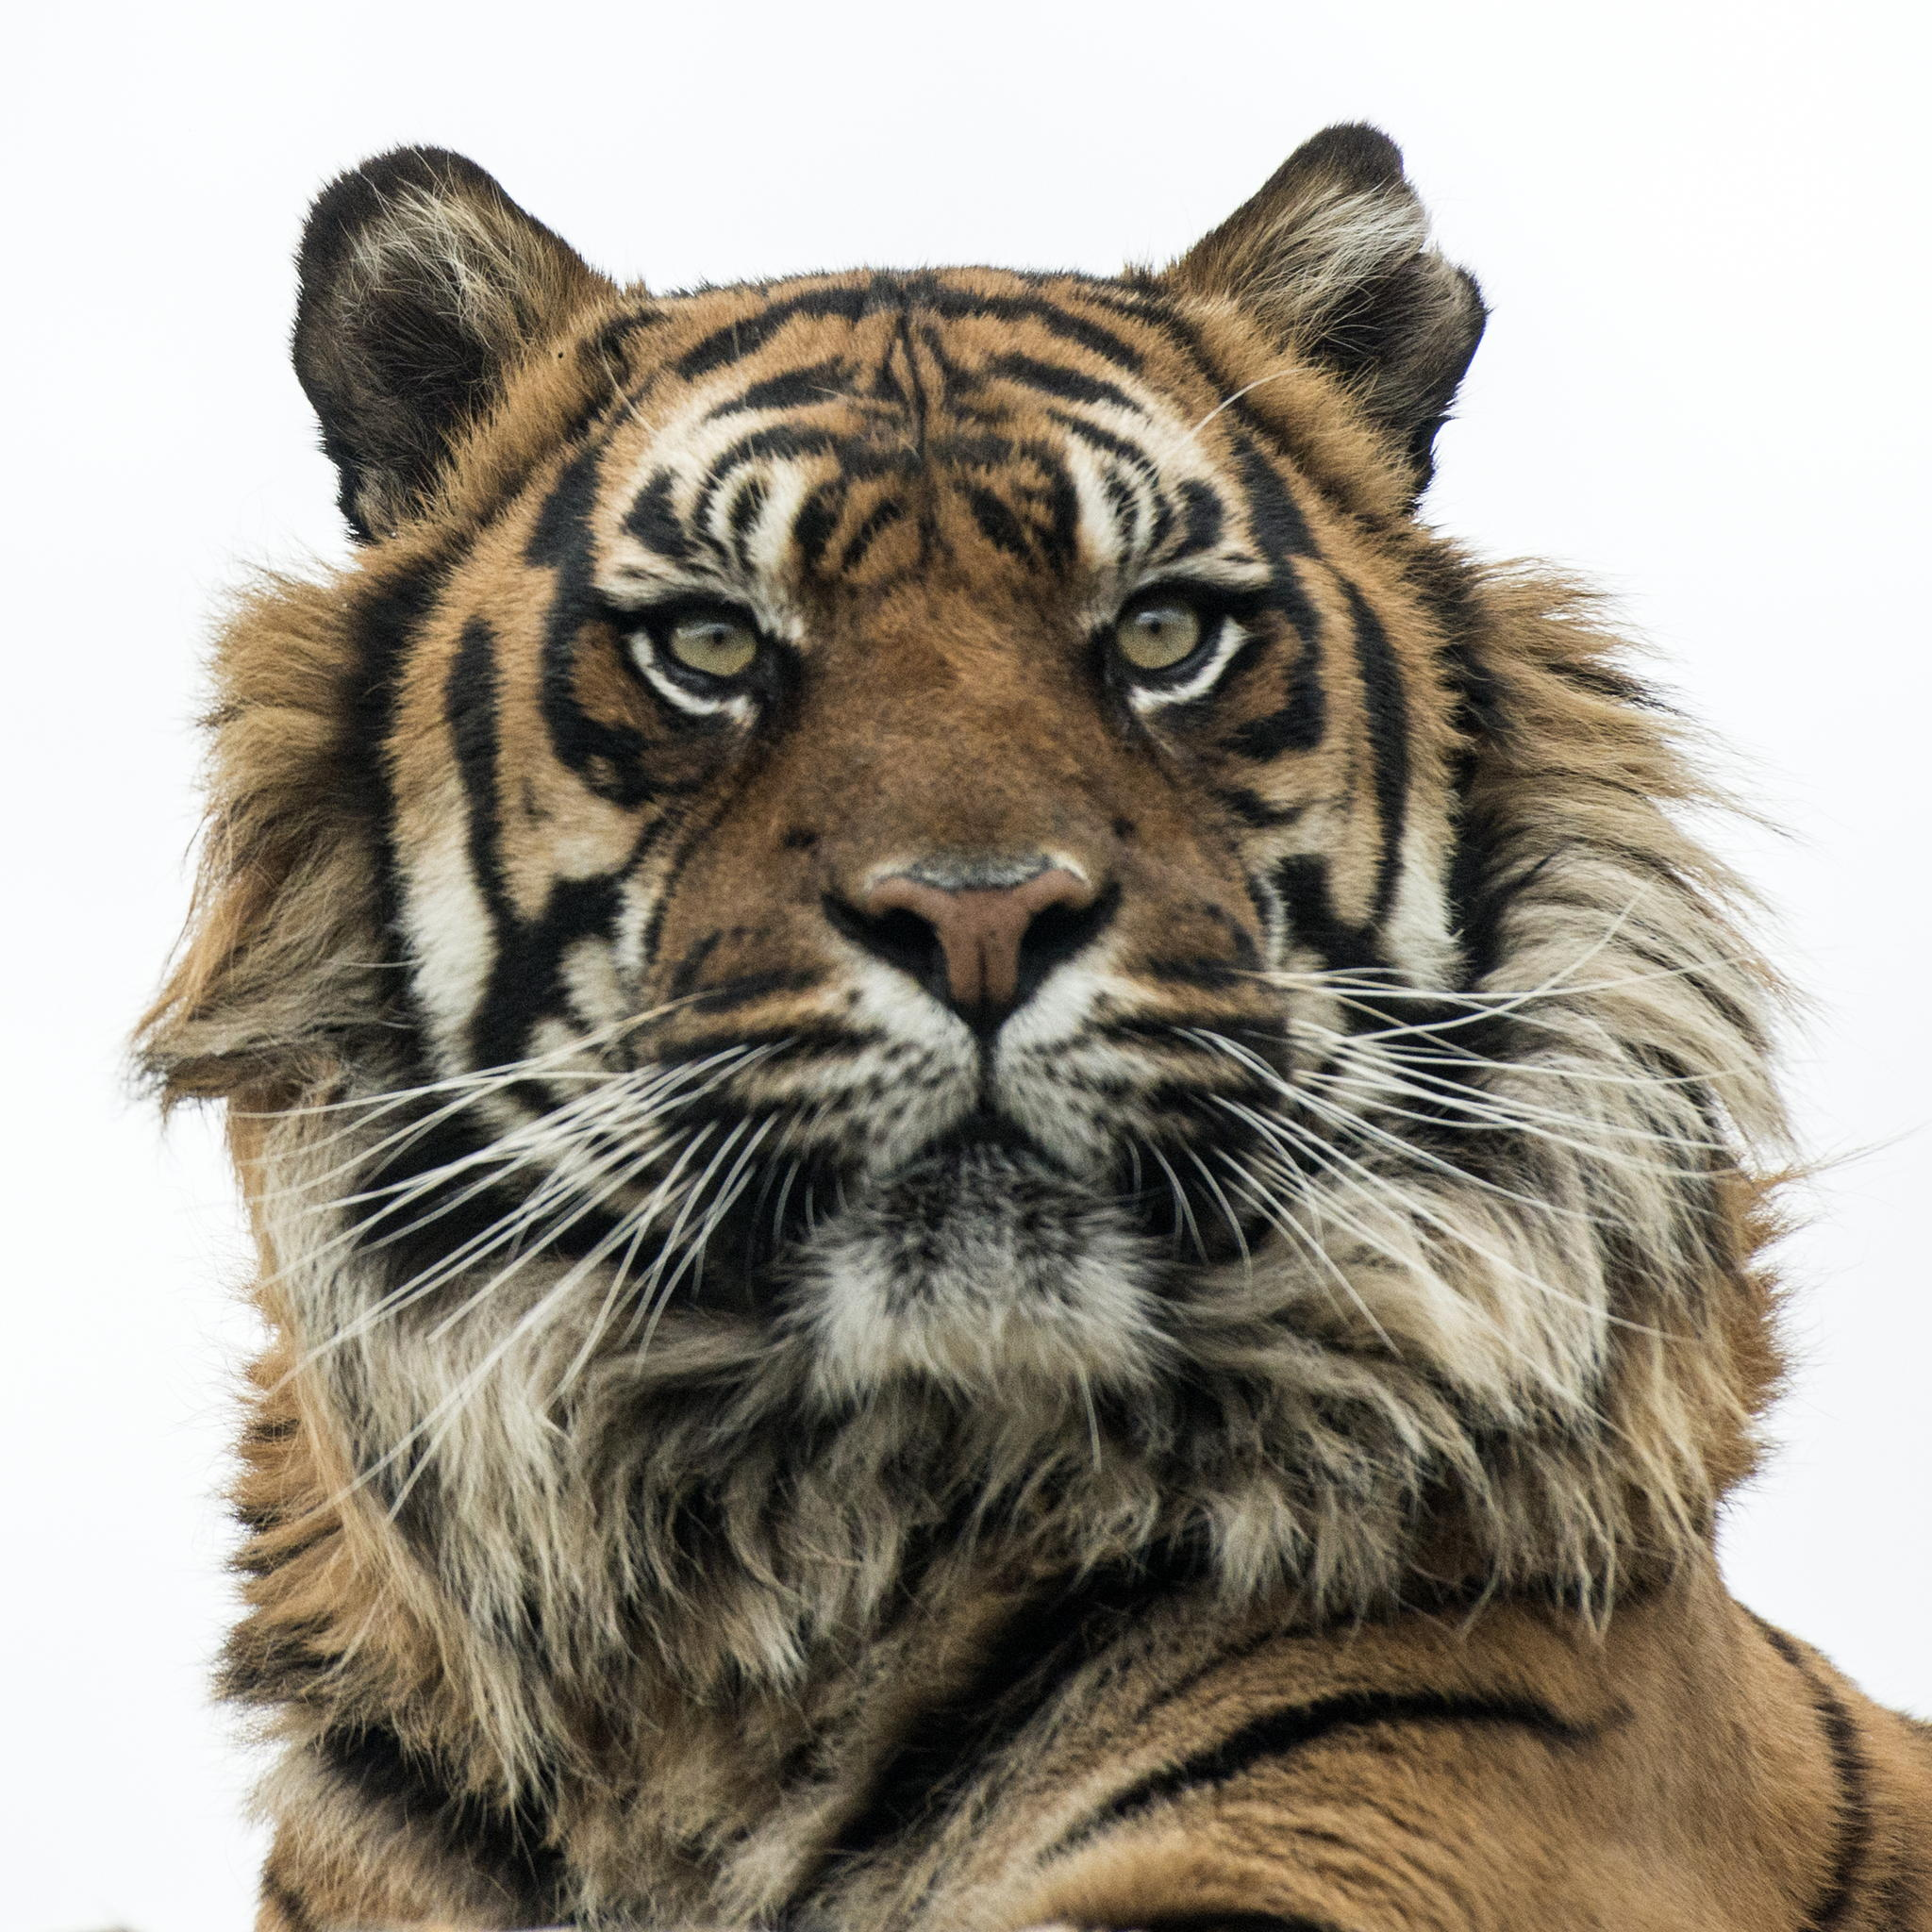tiger: (179, 147, 1746, 1803)
